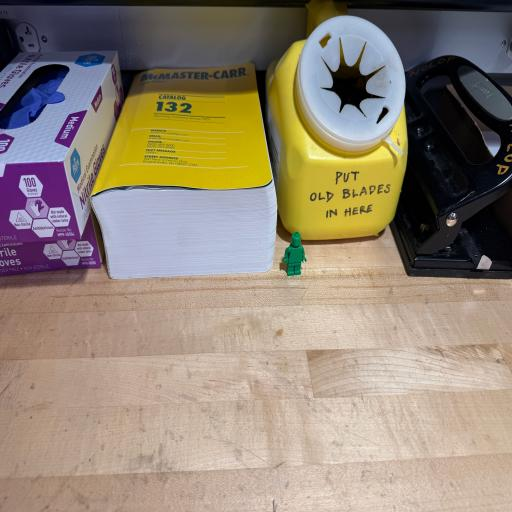Lego-Dude: (283, 231, 307, 276)
